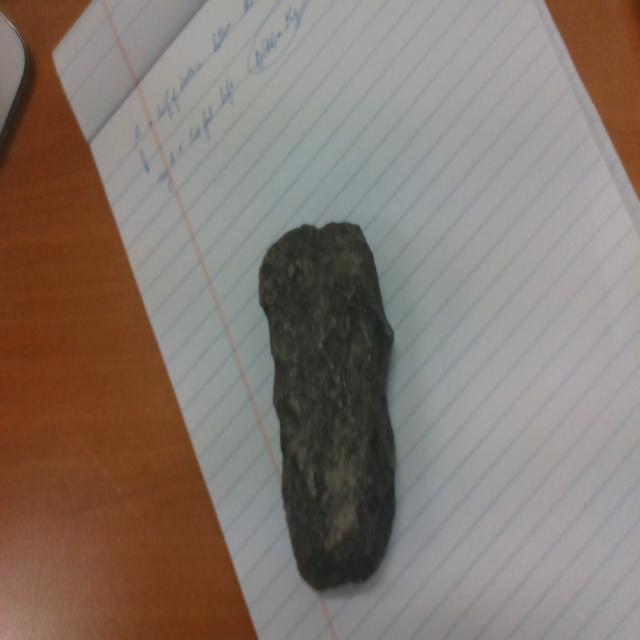stone: (259, 220, 397, 592)
